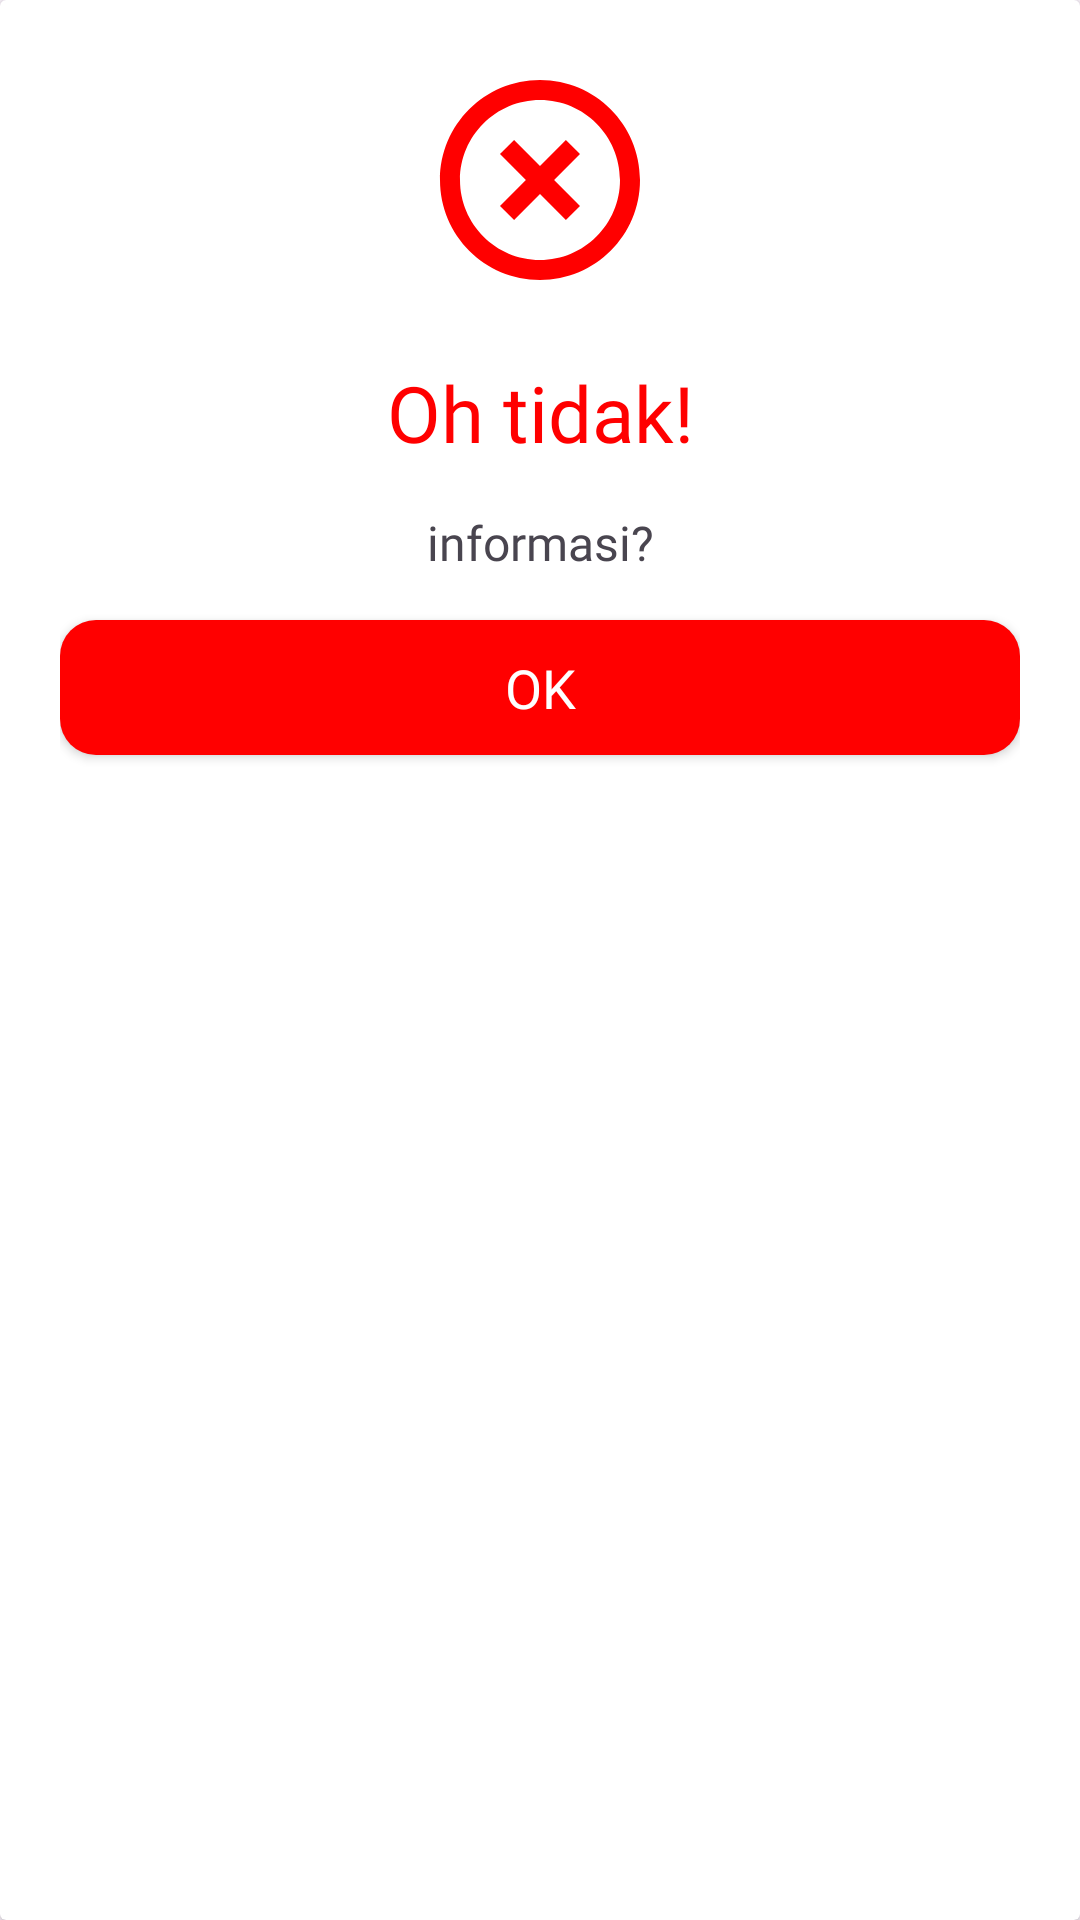

Icons on this 1080w x 1920h Android screen, each with the point to tap as point (x, y):
failed: point (540, 180)
